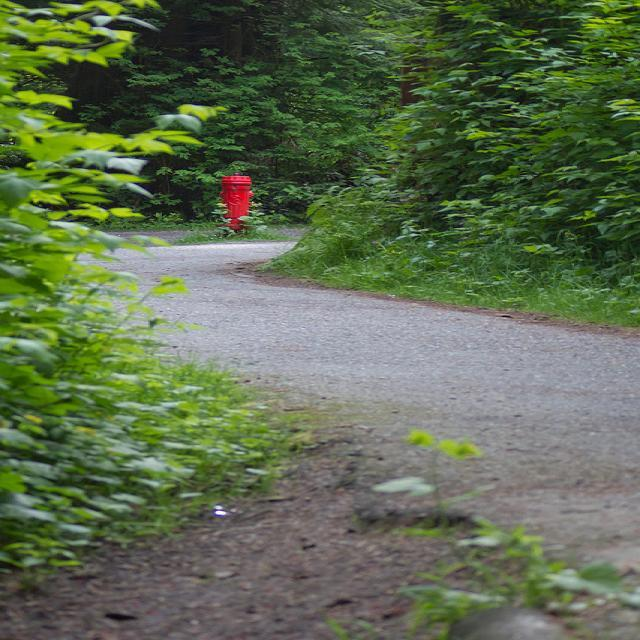fire_hydrant: (216, 175, 253, 230)
